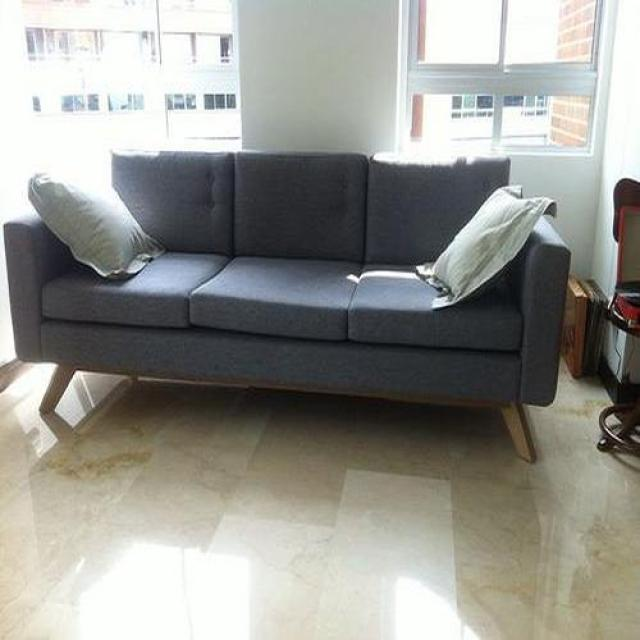sofa: (3, 152, 572, 461)
